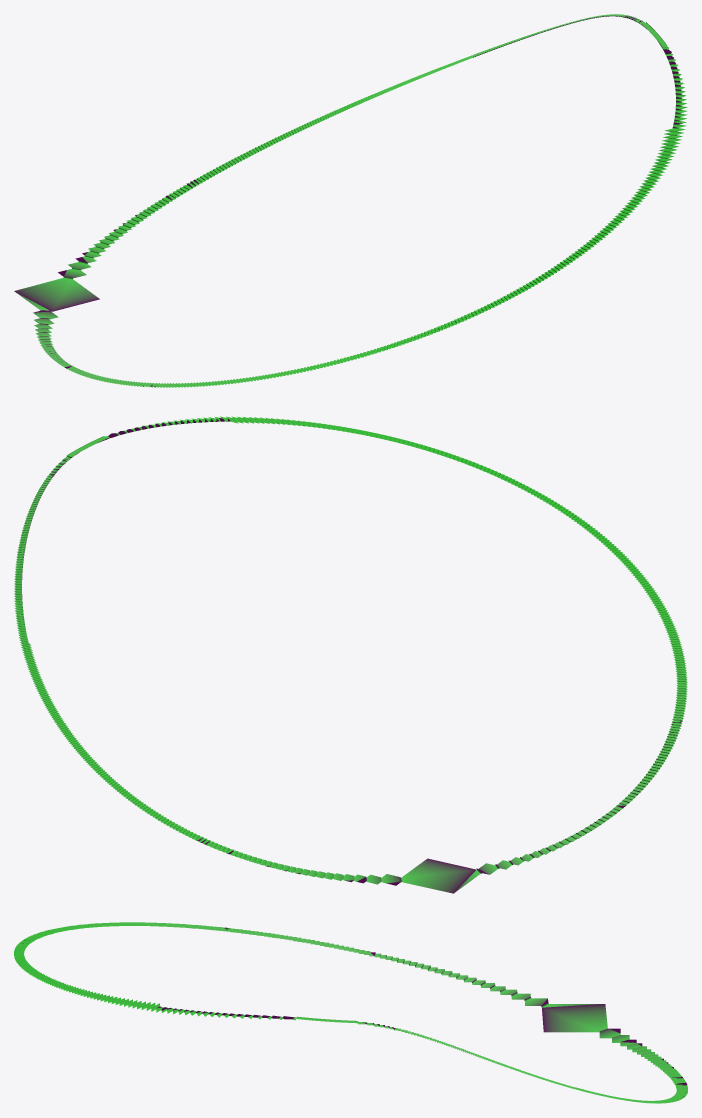
3 renders of one model, top to bottom at view 1: azimuth 30°, elevation 25°; view 2: azimuth 150°, elevation 25°; view 3: azimuth 270°, elevation 25°, orthographic. The views are drawn at different scales.
Visible parts, largest first — view 1: solsticeStairs; view 2: solsticeStairs; view 3: solsticeStairs.
Boxes of the visible parts, left/top/right/bottom form: solsticeStairs: left=14, top=14, right=687, bottom=387; solsticeStairs: left=14, top=416, right=687, bottom=893; solsticeStairs: left=14, top=922, right=687, bottom=1103.
Size of the model in its own units: 130 by 50.18 by 128.
